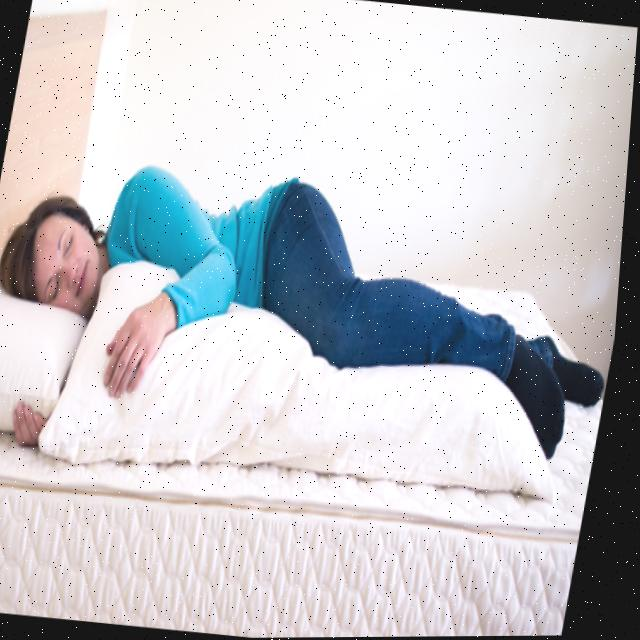sleeping-person: (0, 114, 633, 508)
